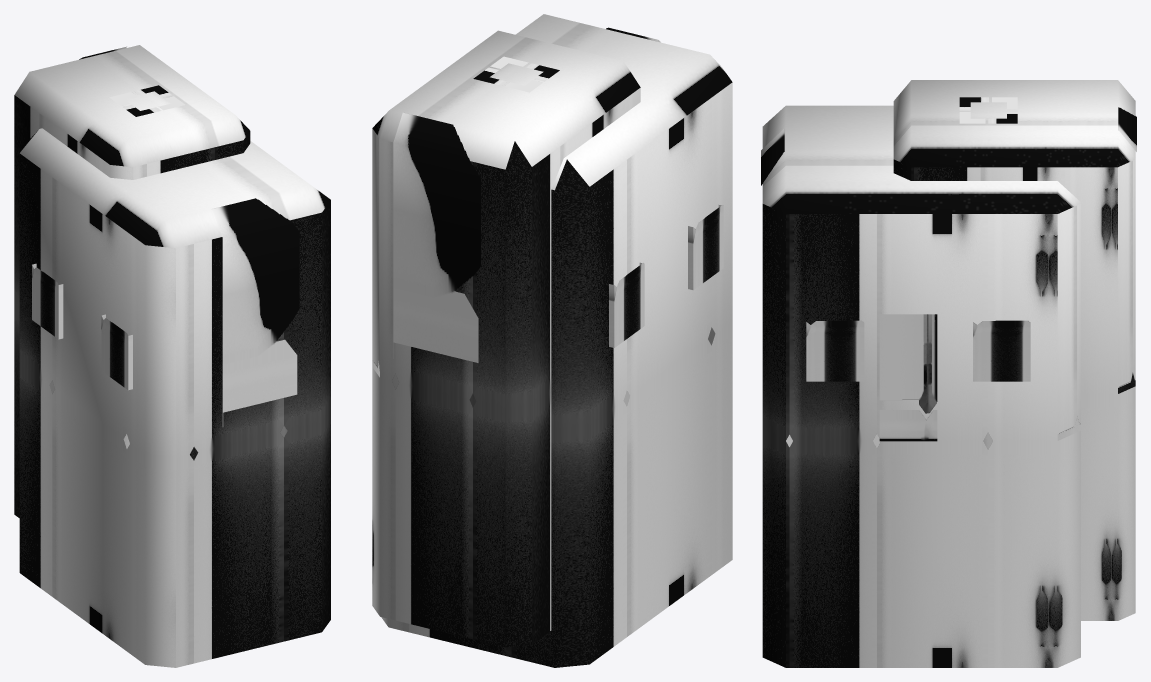
File: farmstead_hopi.dae
3 renders of one model, left to right at view 1: azimuth 30°, elevation 25°; view 2: azimuth 150°, elevation 25°; view 3: azimuth 270°, elevation 25°, orthographic. The views are drawn at different scales.
Parts seen in each view (by area): view 1: Farmstead; view 2: Farmstead; view 3: Farmstead.
Boxes of the visible parts, x1,y1,x2,y2 form: Farmstead: (14,45,330,667); Farmstead: (372,14,732,667); Farmstead: (761,80,1136,667).
Bounding box in the file's own units: 11.12 × 12.96 × 22.04.
